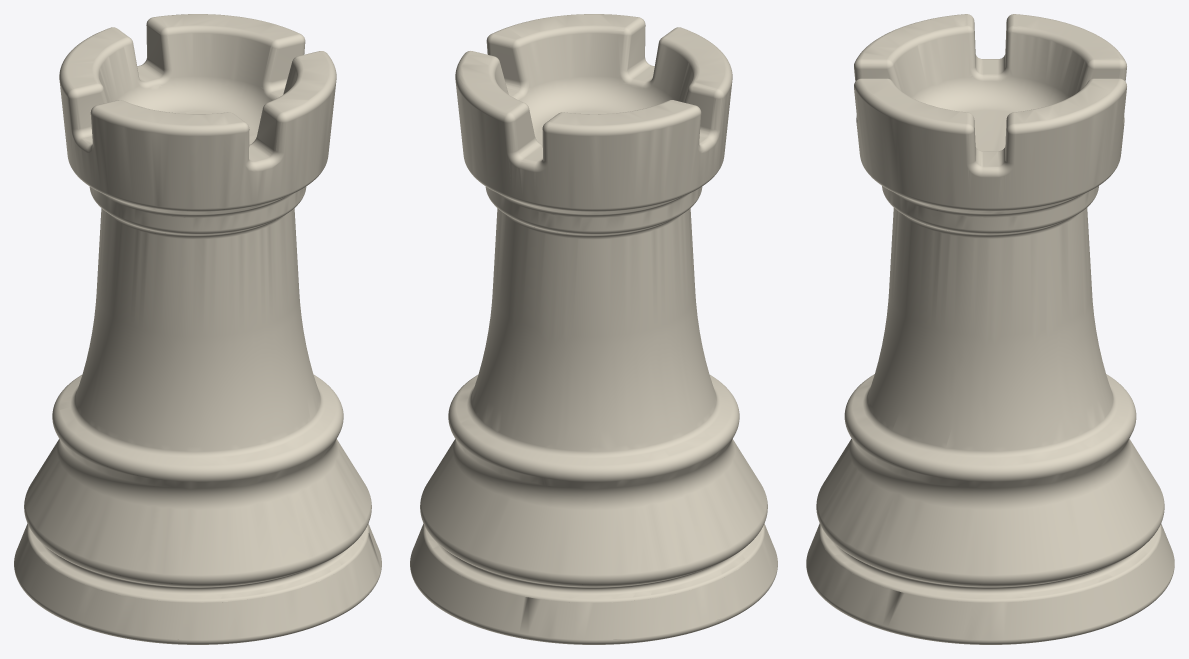
Rendered from torre.glb.
The picture shows the model from 3 angles, left to right: view 1: azimuth 30°, elevation 25°; view 2: azimuth 150°, elevation 25°; view 3: azimuth 270°, elevation 25°; orthographic projection.
Parts seen in each view (by area): view 1: Object_2; view 2: Object_2; view 3: Object_2.
Part boxes in pixels (box(x1,y1,x2,y2)): Object_2: box(14, 14, 381, 644); Object_2: box(410, 14, 777, 644); Object_2: box(806, 14, 1174, 644).
Size of the model in its own units: 35.72 by 53.44 by 35.71.
